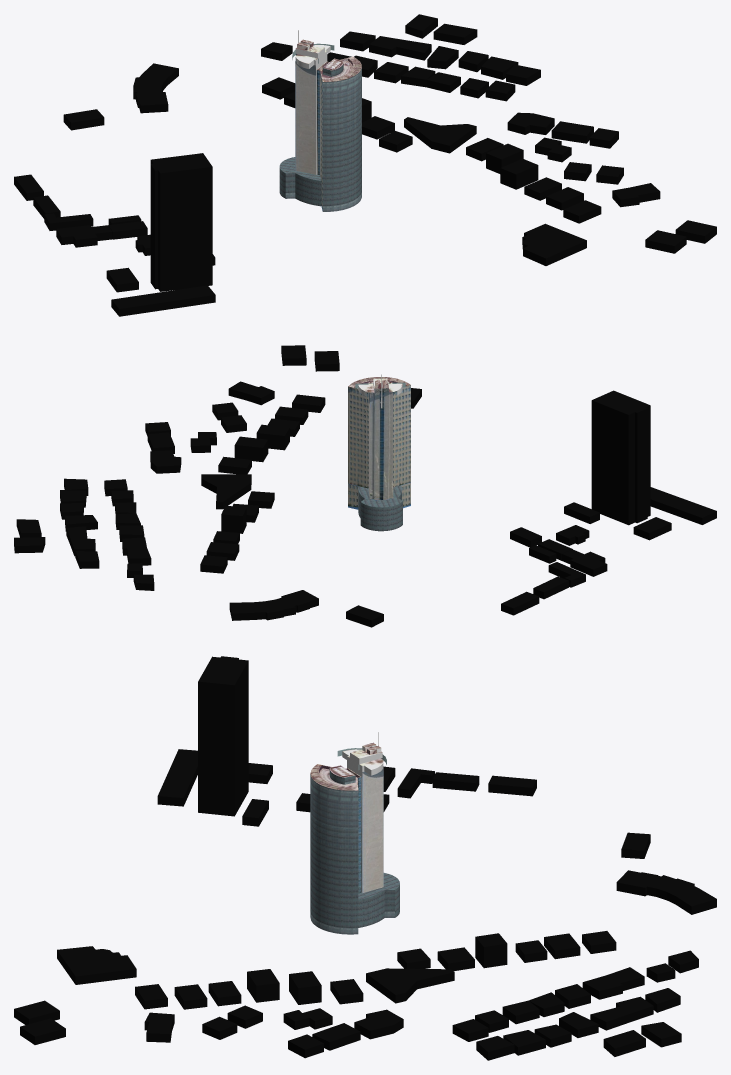
The model's file is Garanti.glb.
The picture shows the model from 3 angles, top to bottom: view 1: azimuth 30°, elevation 25°; view 2: azimuth 150°, elevation 25°; view 3: azimuth 270°, elevation 25°; orthographic projection. The views are drawn at different scales.
Size of the model in its own units: 461 by 126 by 452.
16 materials, 15 textured.
